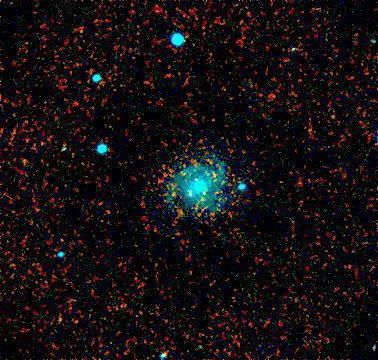star: (182, 178, 212, 208)
